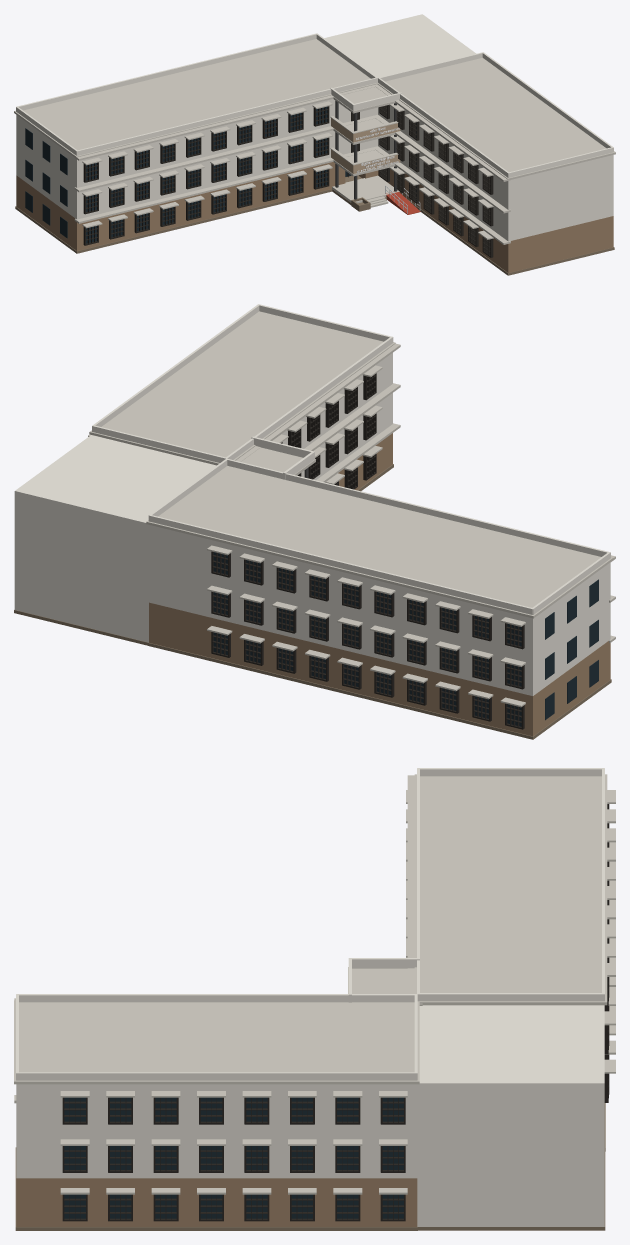
The model's file is iit_kgp_electrical_math_complex.glb.
3 views of the same model, one above another, from view 1: azimuth 30°, elevation 25°; view 2: azimuth 150°, elevation 25°; view 3: azimuth 270°, elevation 25° (orthographic). The views are drawn at different scales.
Parts seen in each view (by area): view 1: IIT Kharagpur Electrical Engineering and Mathematics complex; view 2: IIT Kharagpur Electrical Engineering and Mathematics complex; view 3: IIT Kharagpur Electrical Engineering and Mathematics complex.
Part boxes in pixels (box(x1,y1,x2,y2)): IIT Kharagpur Electrical Engineering and Mathematics complex: box(14, 14, 615, 275); IIT Kharagpur Electrical Engineering and Mathematics complex: box(14, 304, 615, 739); IIT Kharagpur Electrical Engineering and Mathematics complex: box(14, 768, 615, 1230).
Size of the model in its own units: 55.03 by 13.05 by 45.03.
